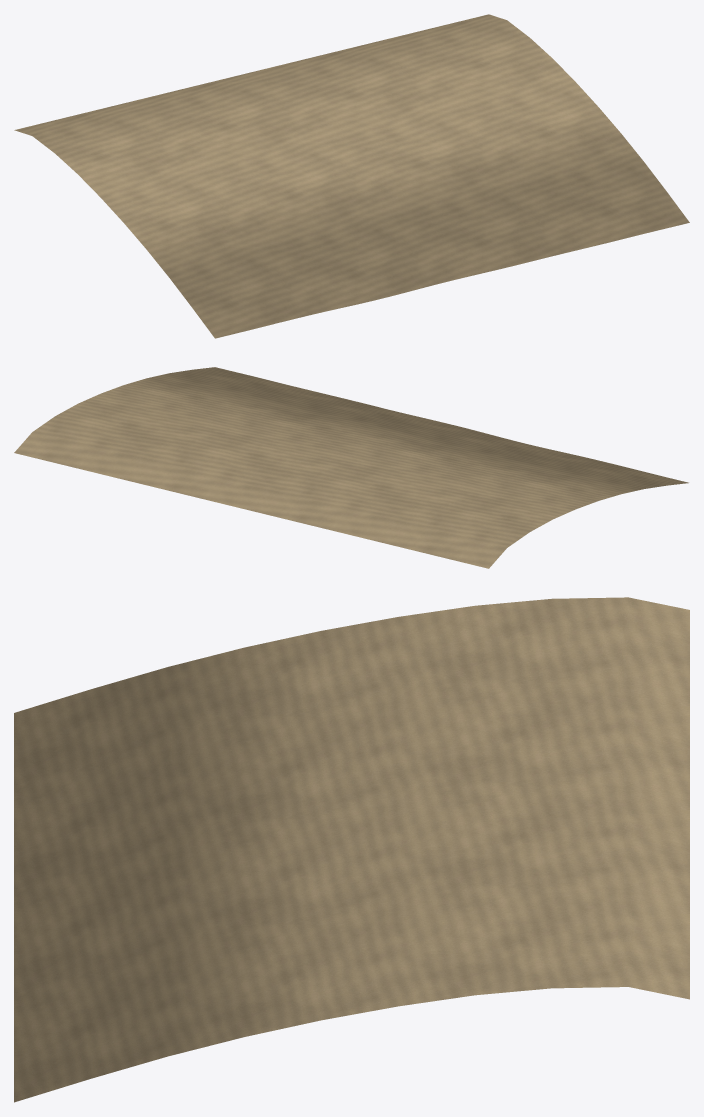
The model's file is beach_sand_straight6_v5_autumn.glb.
The picture shows the model from 3 angles, top to bottom: view 1: azimuth 30°, elevation 25°; view 2: azimuth 150°, elevation 25°; view 3: azimuth 270°, elevation 25°; orthographic projection. The views are drawn at different scales.
Visible parts, largest first — view 1: beach_sand_straight6; view 2: beach_sand_straight6; view 3: beach_sand_straight6.
Boxes of the visible parts, x1,y1,x2,y2 form: beach_sand_straight6: [14, 14, 689, 338]; beach_sand_straight6: [14, 367, 688, 568]; beach_sand_straight6: [14, 597, 689, 1102].
Size of the model in its own units: 6 by 0.8494 by 4.4.
1 material, 1 textured.
